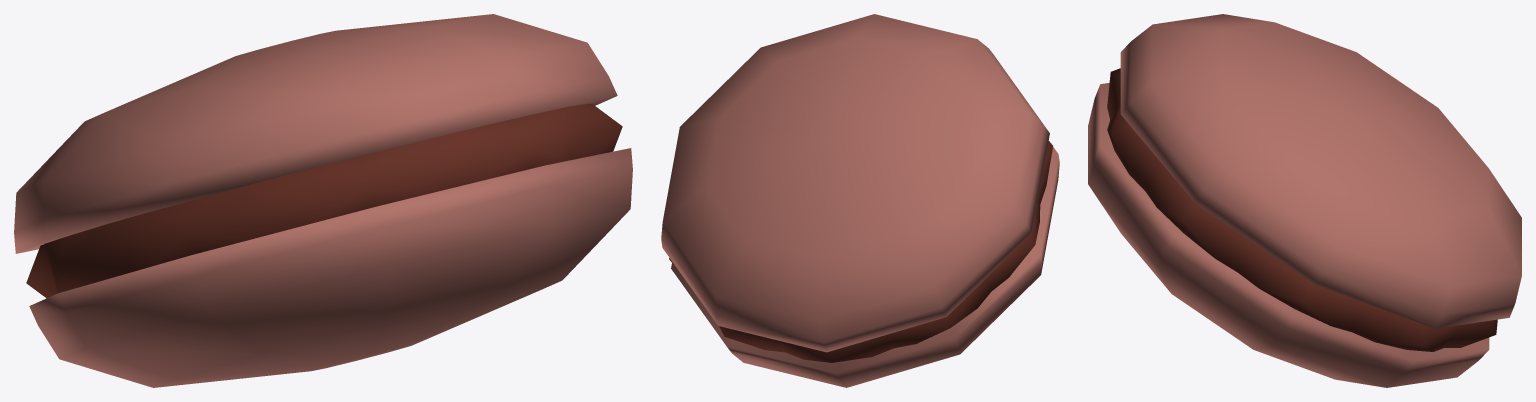
Rendered from top.fbx.
The picture shows the model from 3 angles, left to right: view 1: azimuth 30°, elevation 25°; view 2: azimuth 150°, elevation 25°; view 3: azimuth 270°, elevation 25°; orthographic projection. The views are drawn at different scales.
Parts seen in each view (by area): view 1: polySurface47, polySurface48, polySurface79; view 2: polySurface48, polySurface47, polySurface79; view 3: polySurface48, polySurface47, polySurface79.
Part boxes in pixels (bbox=[...]): polySurface47: bbox=[29, 148, 632, 387]; polySurface48: bbox=[14, 14, 617, 253]; polySurface79: bbox=[26, 103, 622, 298]; polySurface48: bbox=[661, 14, 1049, 352]; polySurface47: bbox=[671, 147, 1059, 387]; polySurface79: bbox=[669, 141, 1052, 362]; polySurface48: bbox=[1120, 14, 1521, 328]; polySurface47: bbox=[1088, 83, 1489, 387]; polySurface79: bbox=[1107, 68, 1497, 351].
Bounding box in the file's own units: 4.34 × 3.04 × 3.98.
